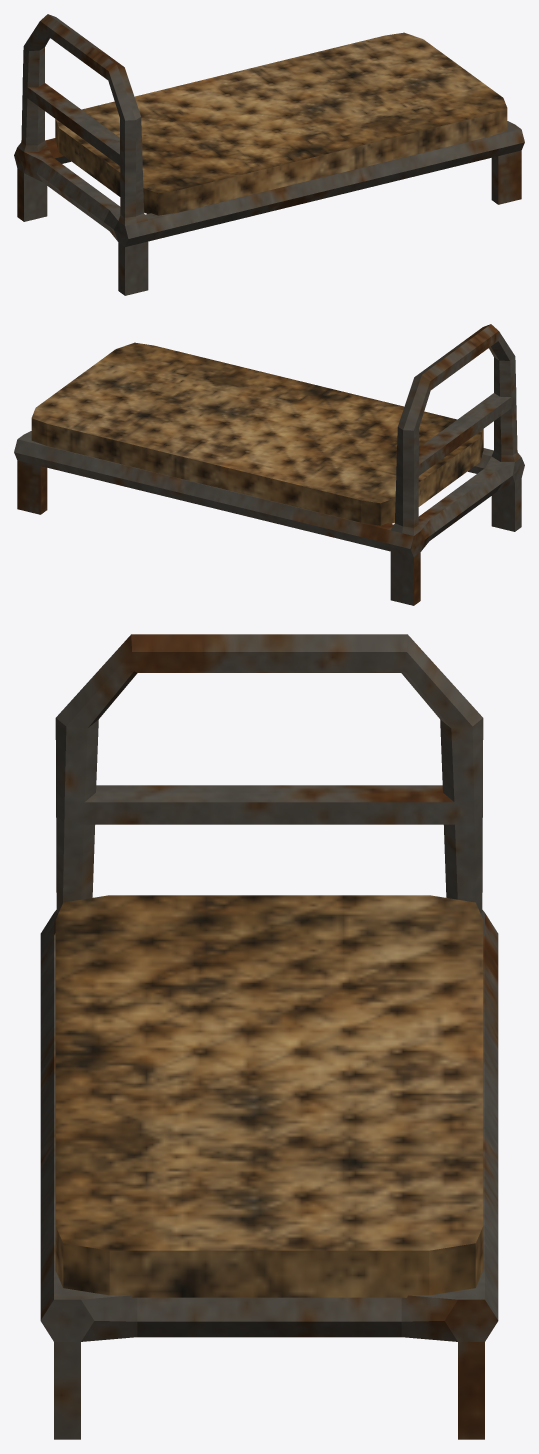
Rendered from Bed.fbx.
3 views of the same model, one above another, from view 1: azimuth 30°, elevation 25°; view 2: azimuth 150°, elevation 25°; view 3: azimuth 270°, elevation 25° (orthographic). The views are drawn at different scales.
Parts seen in each view (by area): view 1: Matress, Bed_01; view 2: Matress, Bed_01; view 3: Matress, Bed_01.
Part boxes in pixels (box(x1,y1,x2,y2)): Matress: box(55, 32, 507, 215); Bed_01: box(14, 14, 524, 295); Matress: box(31, 342, 483, 525); Bed_01: box(14, 324, 524, 605); Matress: box(55, 895, 483, 1297); Bed_01: box(40, 634, 498, 1439).
Bounding box in the file's own units: 221 × 113 × 110.
2 materials, 2 textured.
